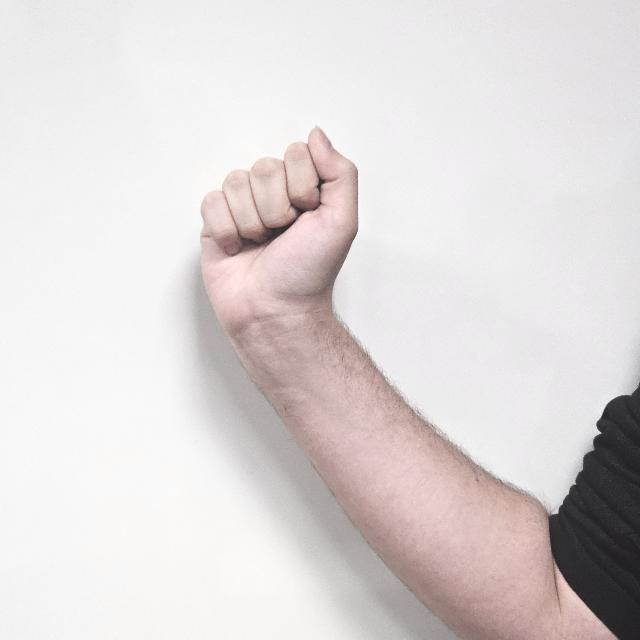Quadro: (198, 120, 364, 330)
